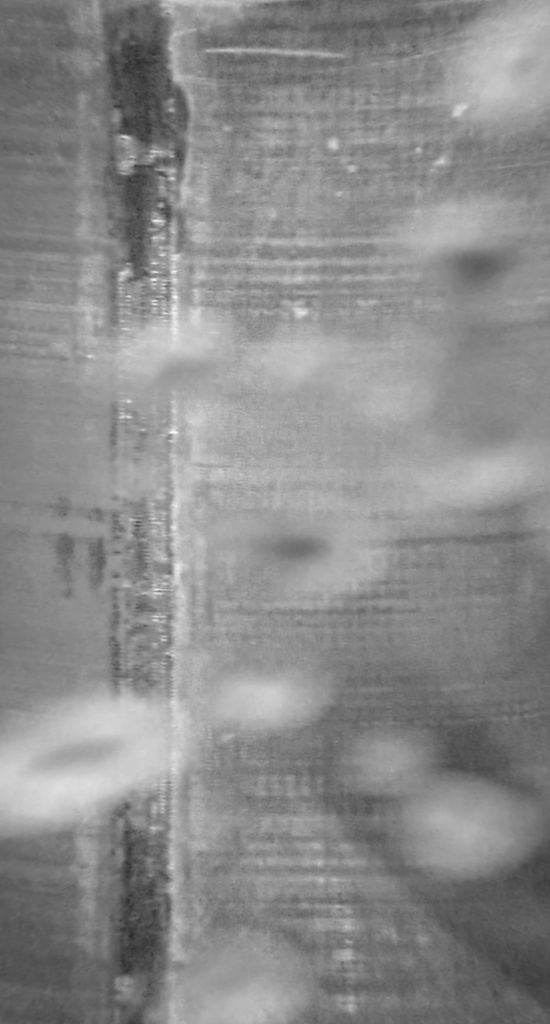splice: (92, 1, 189, 1024)
